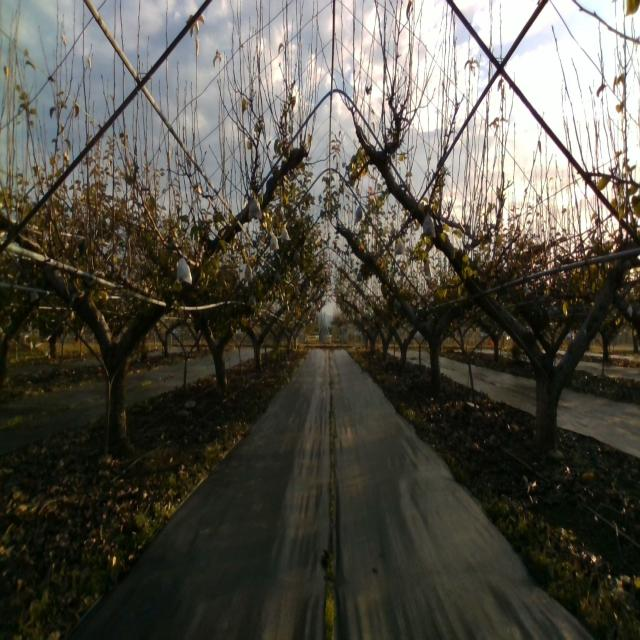pearbags: (176, 250, 192, 286), (420, 211, 436, 239), (248, 195, 262, 220)
